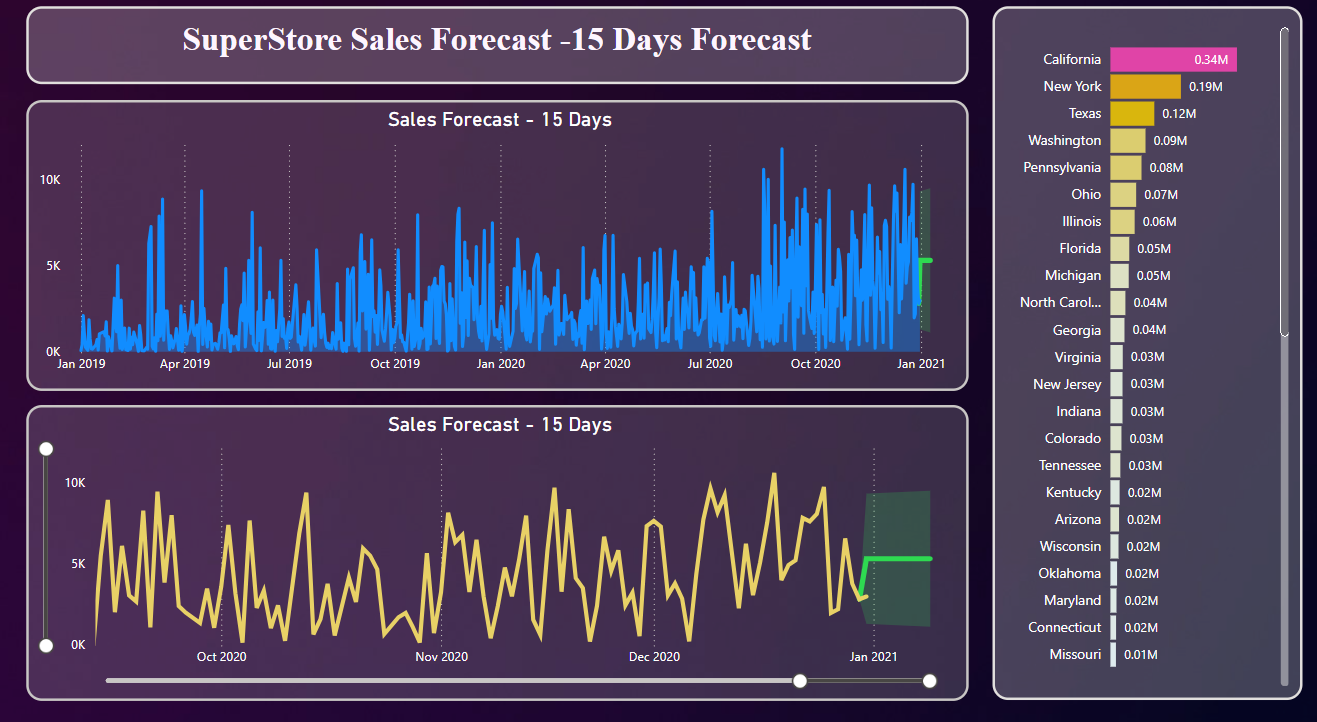

The dashboard page shown, as its layout file describes it:
{"tool":"powerbi","page":{"name":"Page 2","canvas":[1280,720],"ordinal":1},"visuals":[{"type":"lineChart","title":"Sales Forecast - 15 Days","fields":{"Y":["Sum(SuperStore_Sales_Dataset.Sales)"],"Category":["SuperStore_Sales_Dataset.Order Date"]},"box":[25.1,101.7,909.7,281.1],"z":0},{"type":"lineChart","title":"Sales Forecast - 15 Days","fields":{"Y":["Sum(SuperStore_Sales_Dataset.Sales)"],"Category":["SuperStore_Sales_Dataset.Order Date"]},"box":[25.1,395.4,909.7,285.7],"z":1000},{"type":"clusteredBarChart","title":"Sales by State","fields":{"Y":["Sum(SuperStore_Sales_Dataset.Sales)"],"Category":["SuperStore_Sales_Dataset.State"]},"box":[957.7,11.4,299.4,669.7],"z":2000},{"type":"textbox","box":[25.1,11.4,909.7,75.4],"z":3000}]}

Visuals, with their boxes in screenshot pixels (x1, y1, x2, y2), scaled from the page's 1280x720 canvas onto the 1317x722 screenshot:
"Sales Forecast - 15 Days" lineChart: {"left": 26, "top": 102, "right": 962, "bottom": 384}
"Sales Forecast - 15 Days" lineChart: {"left": 26, "top": 396, "right": 962, "bottom": 683}
"Sales by State" clusteredBarChart: {"left": 985, "top": 11, "right": 1293, "bottom": 683}
textbox: {"left": 26, "top": 11, "right": 962, "bottom": 87}
